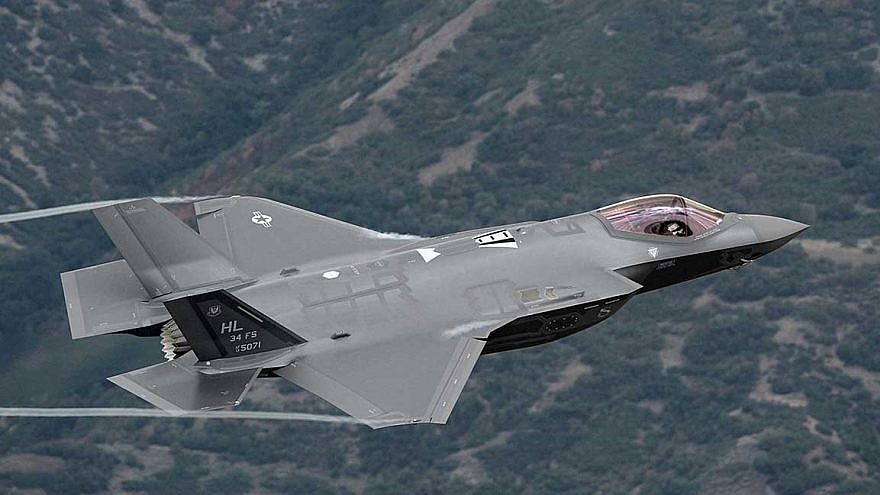F-35 Lightning: (32, 175, 827, 440)
